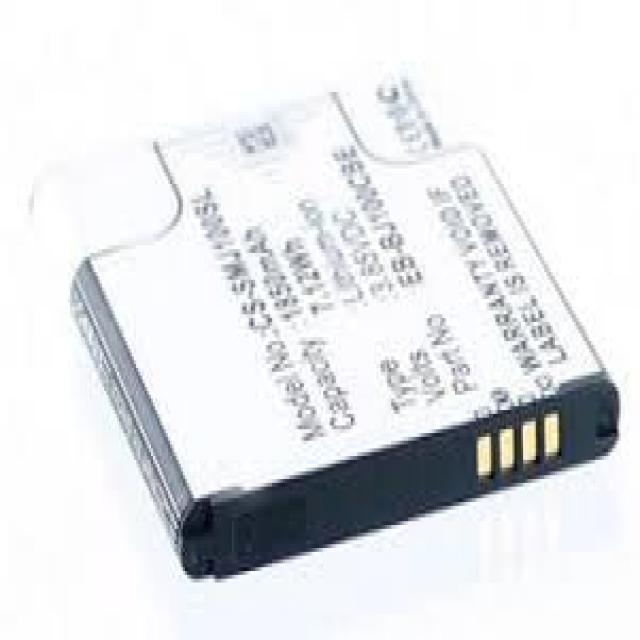non-organic waste: (70, 75, 621, 586)
